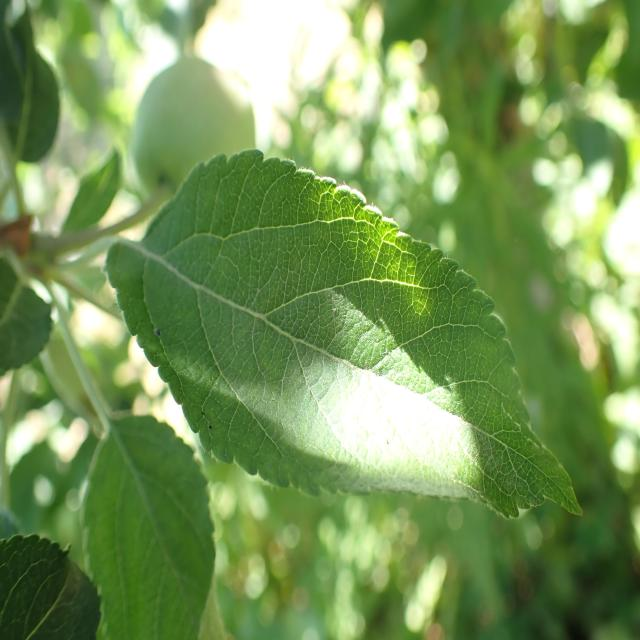healthy: (102, 149, 584, 520), (81, 413, 221, 640), (0, 532, 103, 640), (0, 252, 54, 374)
